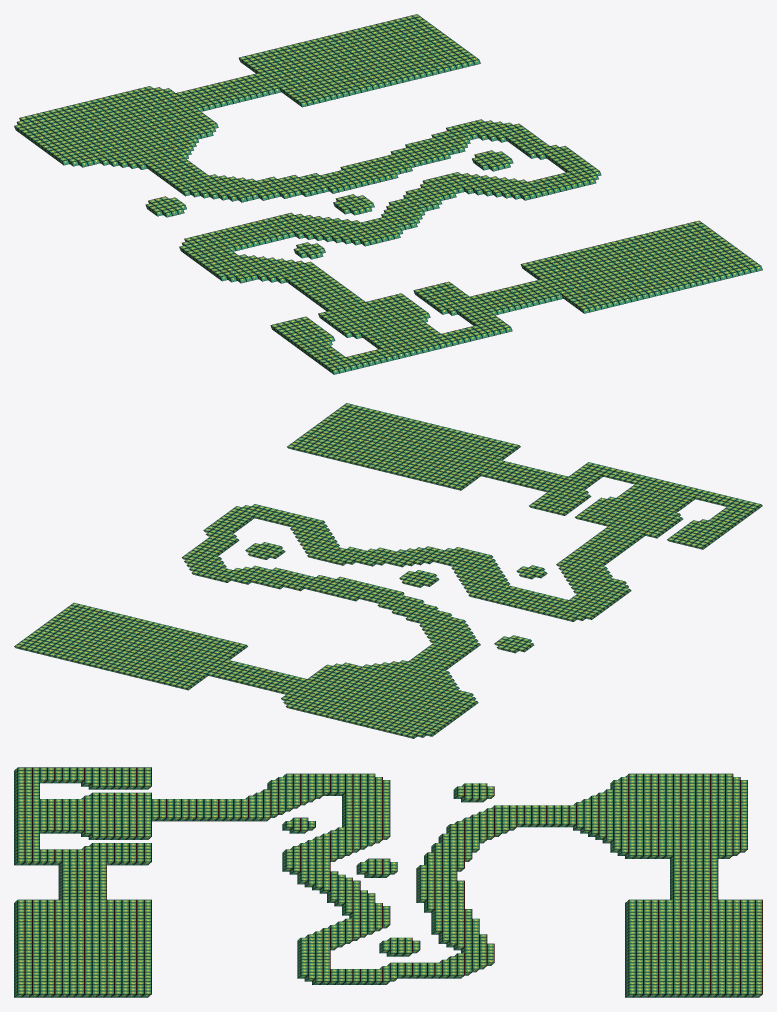
File: Floor0.dae
3 renders of one model, top to bottom at view 1: azimuth 30°, elevation 25°; view 2: azimuth 150°, elevation 25°; view 3: azimuth 270°, elevation 25°, orthographic. The views are drawn at different scales.
Parts seen in each view (by area): view 1: floor0.png_0_0; view 2: floor0.png_0_0; view 3: floor0.png_0_0.
Part boxes in pixels (left/top/right/bottom): floor0.png_0_0: left=14, top=14, right=762, bottom=374; floor0.png_0_0: left=14, top=403, right=762, bottom=738; floor0.png_0_0: left=14, top=767, right=762, bottom=997.
Bounding box in the file's own units: 72 × 101 × 0.5.
